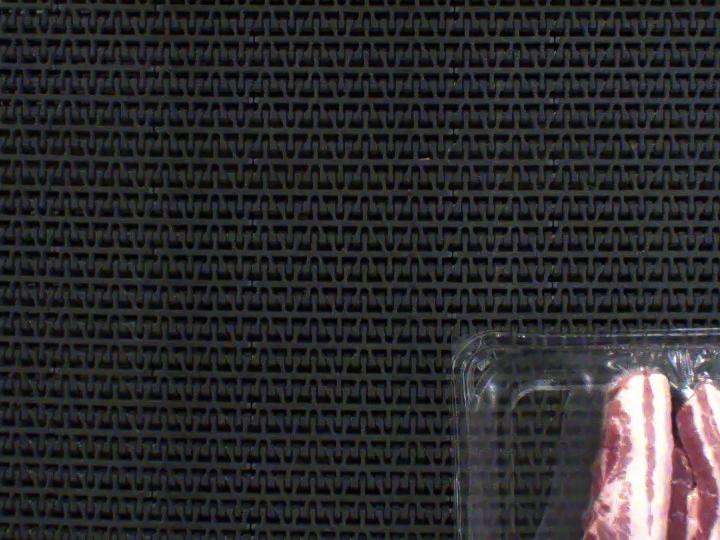unsealed: (457, 332, 720, 540)
